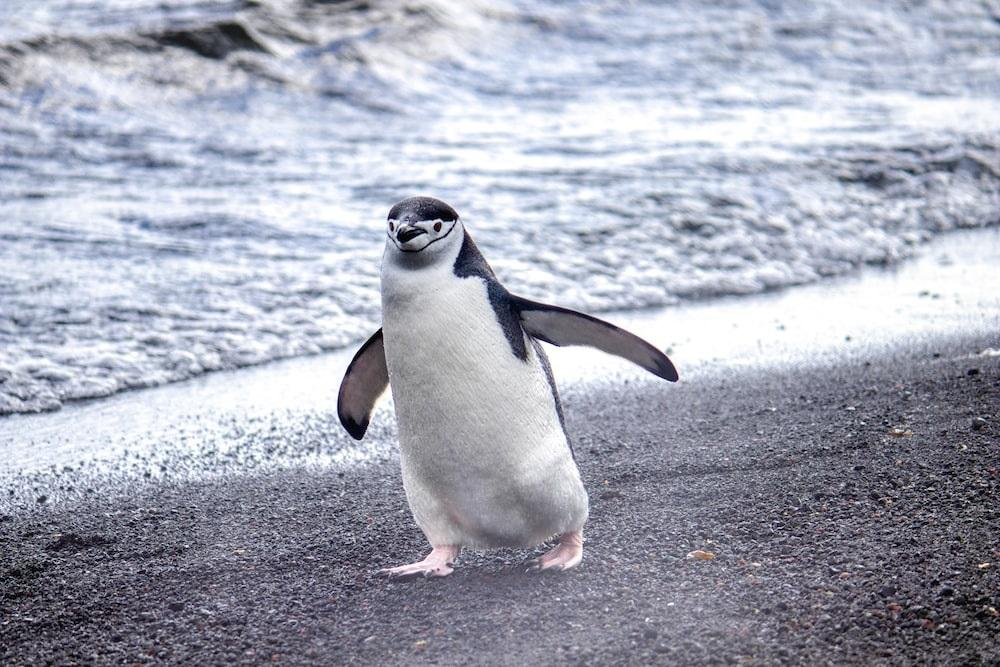chinstrap: (303, 166, 680, 593)
